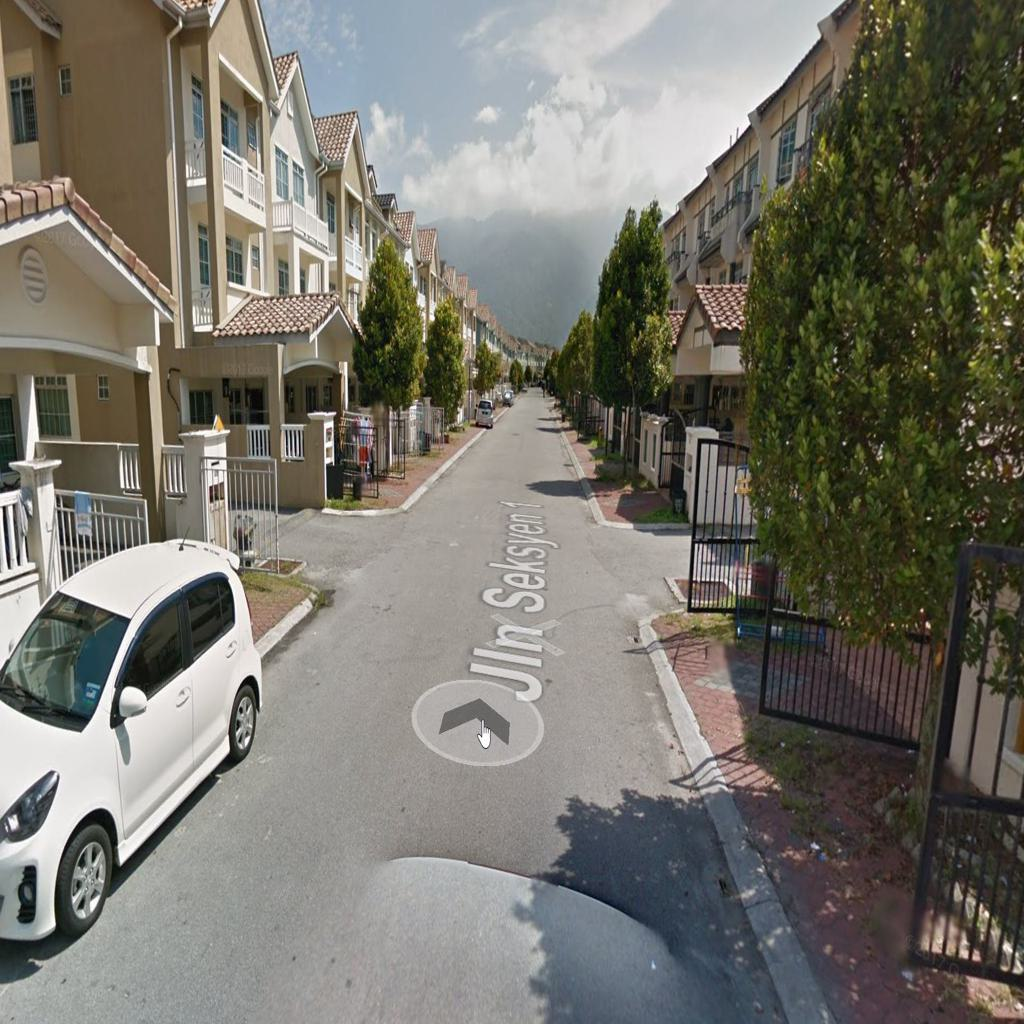Junction: (568, 479, 749, 633), (228, 474, 412, 610)
